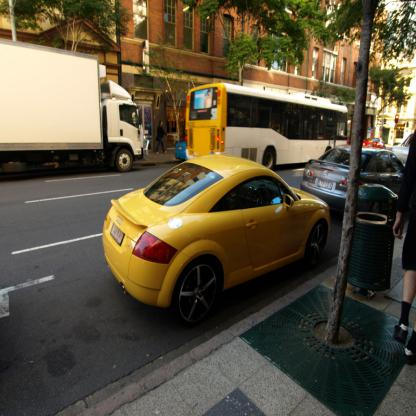Bus: (186, 78, 348, 171)
